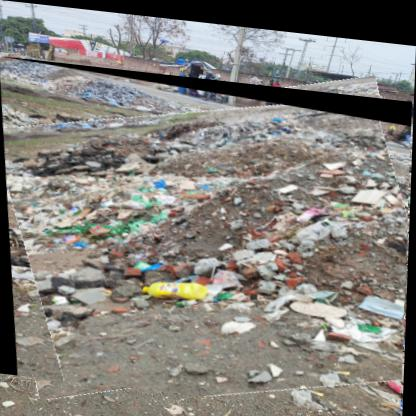Garbage: (1, 57, 414, 410)
